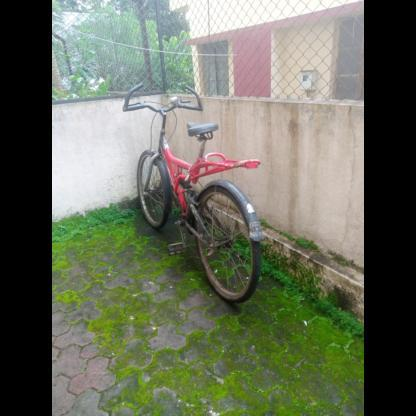Bicycle: (103, 73, 277, 304)
